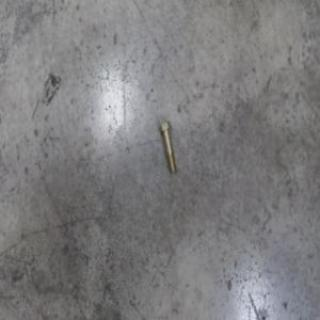Bolttrack_idkeyframe: (154, 122, 172, 174)
